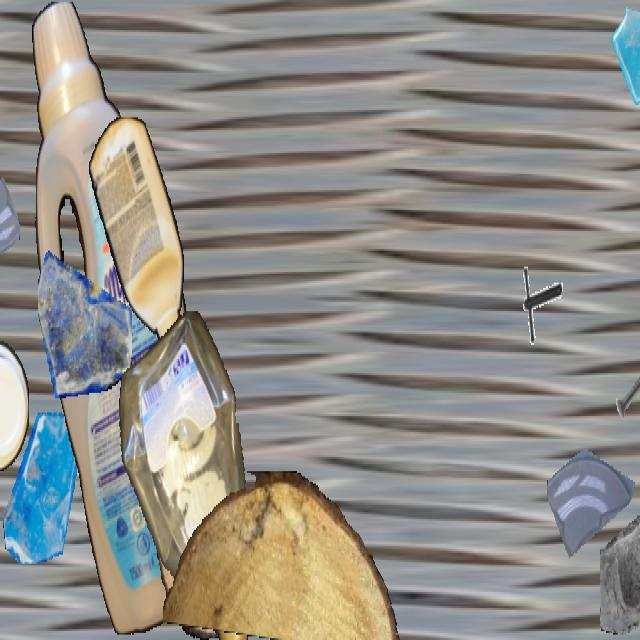glass: (38, 231, 132, 398), (547, 416, 635, 572), (1, 412, 85, 562), (600, 482, 640, 638), (610, 2, 640, 105), (0, 166, 19, 286)
metal: (153, 267, 215, 377), (514, 261, 562, 347), (612, 357, 640, 432)
plastic: (30, 2, 234, 634), (114, 311, 260, 638), (89, 117, 183, 345), (0, 342, 29, 469)
wood: (163, 471, 403, 638), (155, 450, 231, 638)
